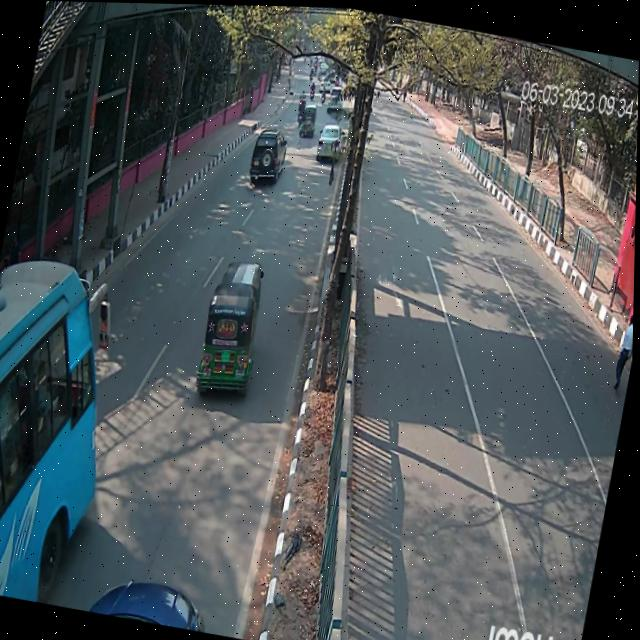cng: (193, 251, 275, 397), (295, 102, 320, 139)
